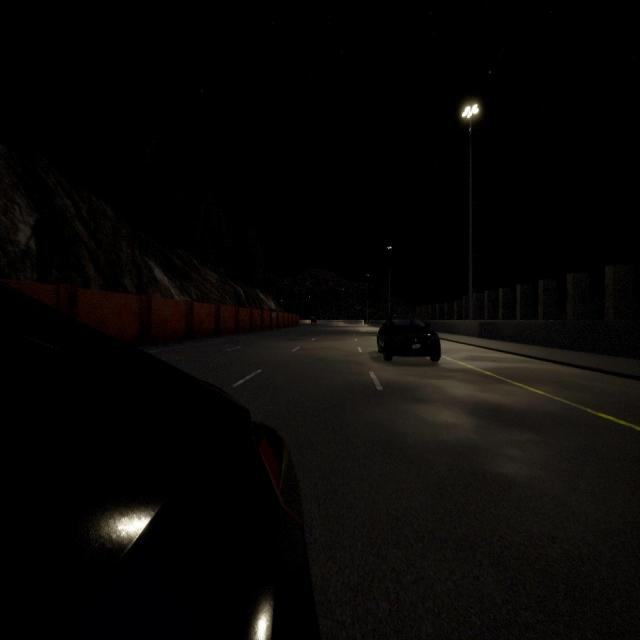Traffic_Signs: (272, 312, 275, 318)
Vehicle: (0, 289, 316, 640), (377, 314, 441, 362), (310, 316, 316, 324)
